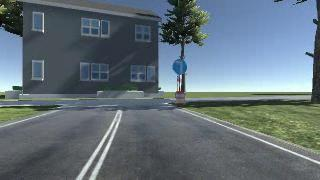turn_left: (172, 59, 188, 74)
